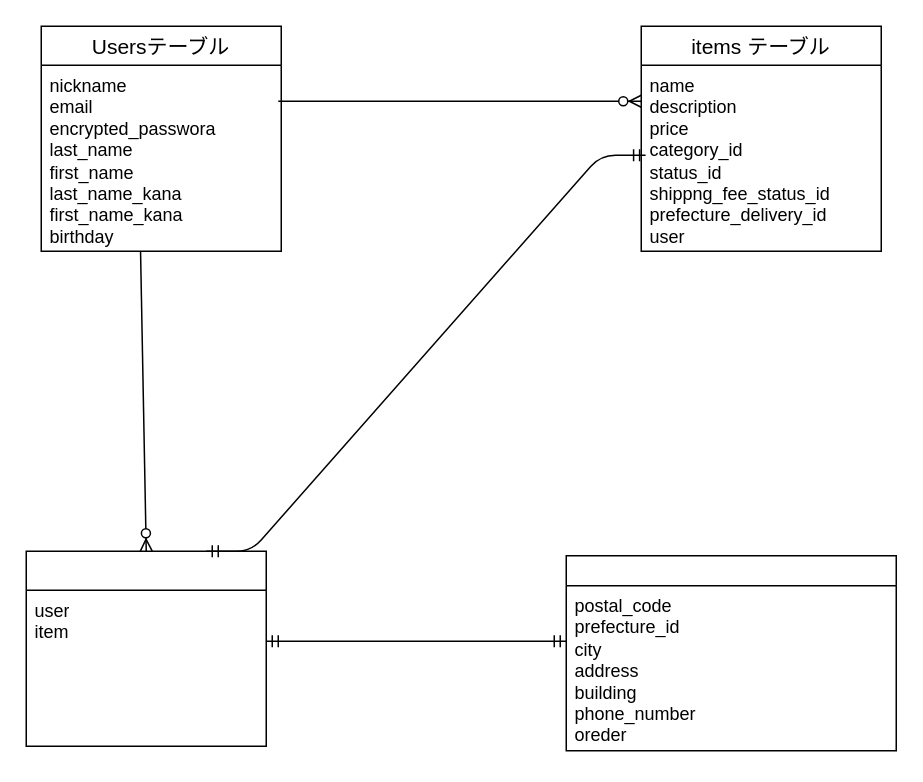
The diagram is 923 pixels wide and 782 high, and some of its shapes have lost their labels. Each missing label, with the box of its shape:
oredersテーブル: (25, 550, 266, 746)
shipping_addressesテーブル: (565, 554, 896, 751)
